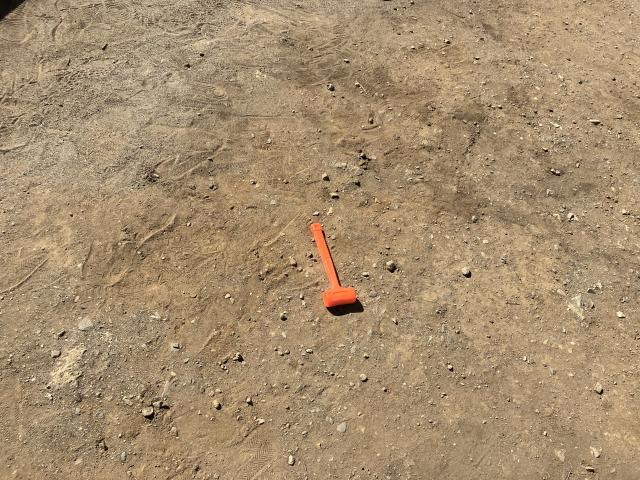hammer: (311, 222, 357, 307)
